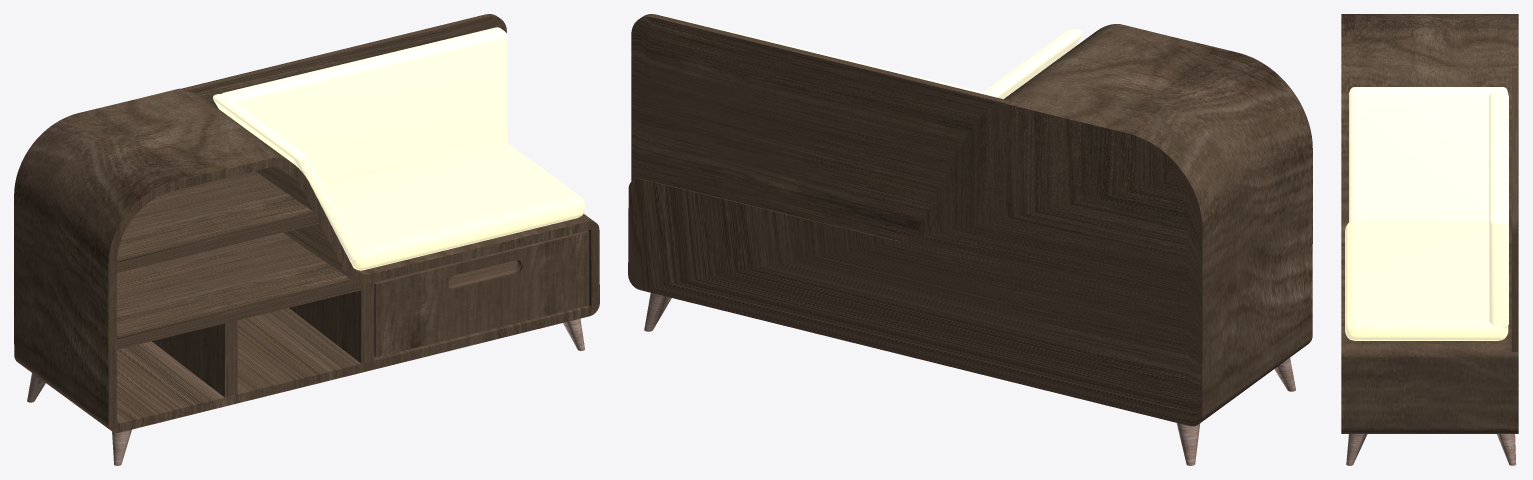
File: bench_entryway_with_drawer_fthylmaz.glb
3 renders of one model, left to right at view 1: azimuth 30°, elevation 25°; view 2: azimuth 150°, elevation 25°; view 3: azimuth 270°, elevation 25°, orthographic. The views are drawn at different scales.
Parts seen in each view (by area): view 1: Boole_Walnut_0, Cube_7_Fabric-Linen_0, Cube_4_Fabric-Linen_0, Loft_3_Oak Polished - White_0; view 2: Boole_Walnut_0, Cube_7_Fabric-Linen_0, Loft_3_Oak Polished - White_0; view 3: Boole_Walnut_0, Cube_7_Fabric-Linen_0, Cube_4_Fabric-Linen_0, Loft_3_Oak Polished - White_0.
Boxes of the visible parts, x1,y1,x2,y2 form: Boole_Walnut_0: [14, 14, 599, 432]; Cube_7_Fabric-Linen_0: [213, 27, 507, 262]; Cube_4_Fabric-Linen_0: [325, 143, 584, 270]; Loft_3_Oak Polished - White_0: [27, 318, 584, 465]; Boole_Walnut_0: [628, 14, 1312, 426]; Cube_7_Fabric-Linen_0: [660, 15, 1081, 98]; Loft_3_Oak Polished - White_0: [644, 293, 1295, 465]; Boole_Walnut_0: [1341, 14, 1518, 433]; Cube_7_Fabric-Linen_0: [1349, 87, 1508, 327]; Cube_4_Fabric-Linen_0: [1345, 220, 1508, 340]; Loft_3_Oak Polished - White_0: [1346, 434, 1515, 465].
Size of the model in its own units: 7.52 by 3.99 by 2.5.
4 materials, 2 textured.
